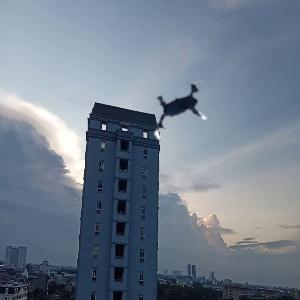drone: (140, 68, 225, 153)
